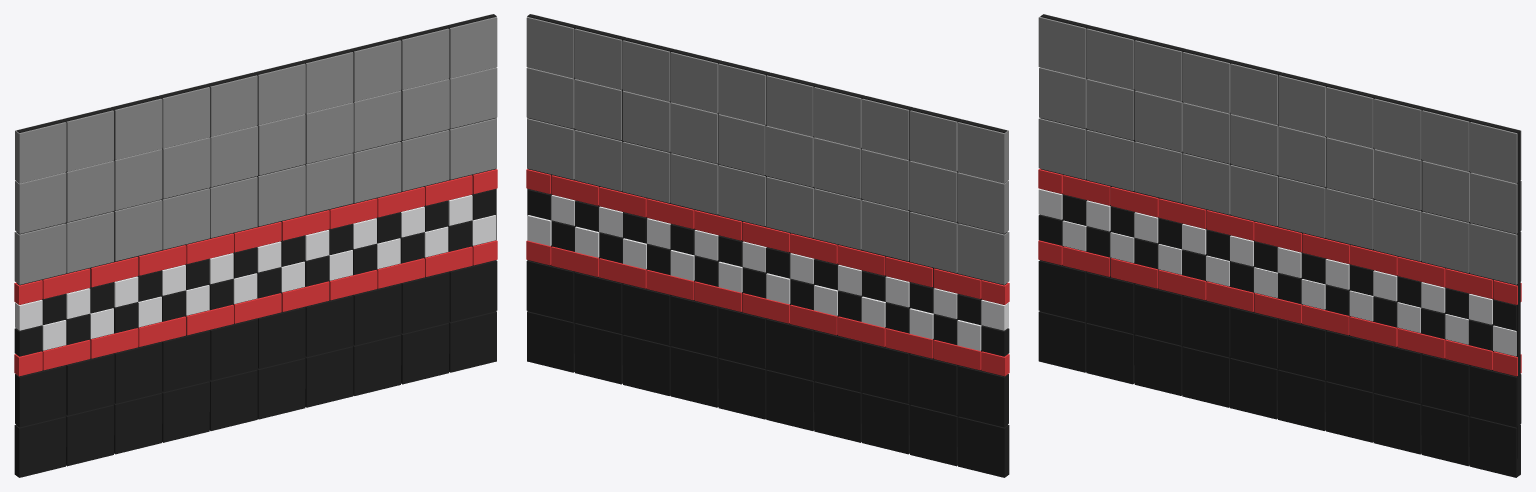
The picture shows the model from 3 angles, left to right: view 1: azimuth 30°, elevation 25°; view 2: azimuth 150°, elevation 25°; view 3: azimuth 330°, elevation 25°; orthographic projection.
Bounding box in the file's own units: 406 × 279 × 7.29.
